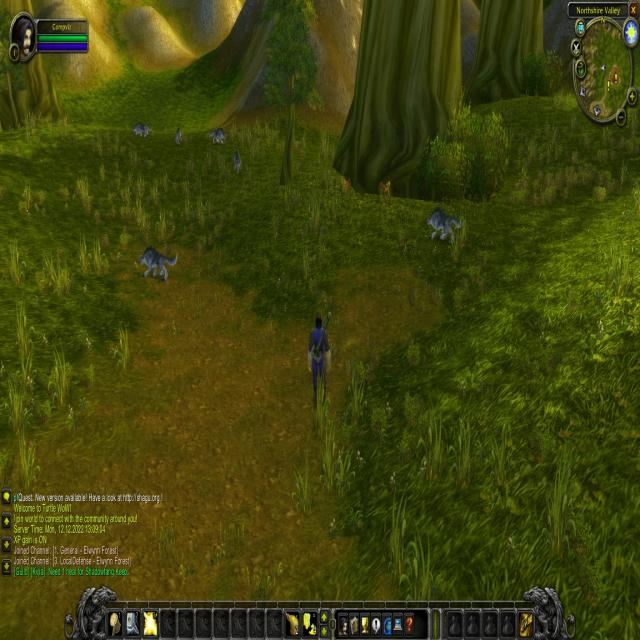wolf: (137, 242, 179, 289), (425, 203, 465, 252), (204, 123, 230, 151), (130, 115, 155, 144), (229, 143, 245, 178), (172, 122, 185, 148)
